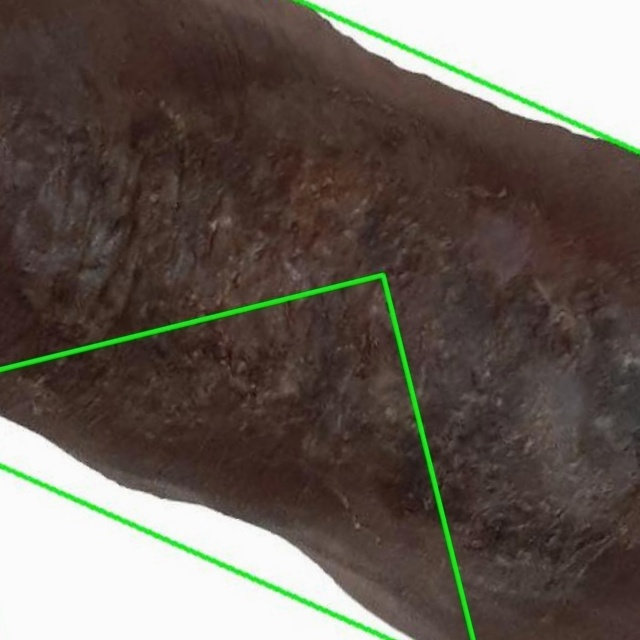Contact Dermatitis: (0, 11, 639, 618), (0, 275, 473, 639)
